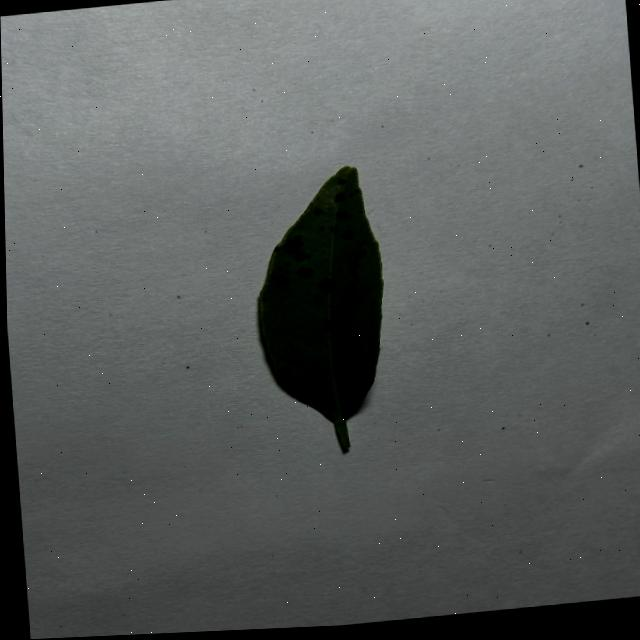sooty_mold: (259, 167, 383, 449)
